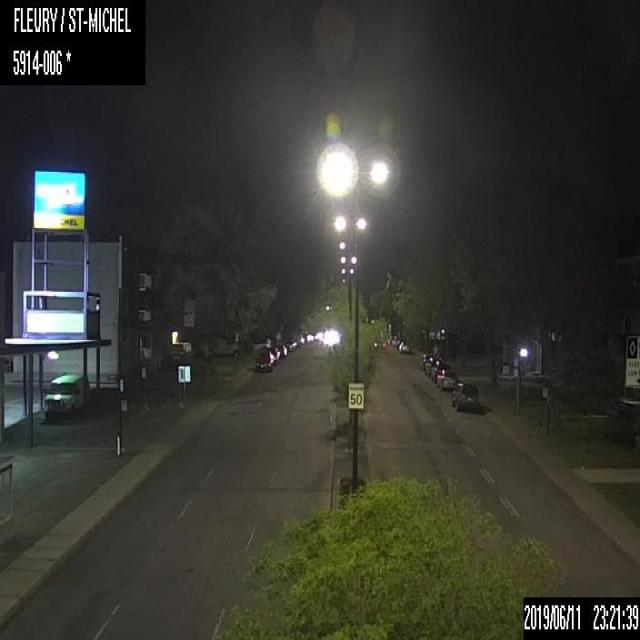vehicle: (41, 371, 90, 418), (452, 380, 483, 410), (434, 367, 456, 390), (254, 346, 270, 372), (266, 346, 278, 365), (396, 341, 411, 354)
